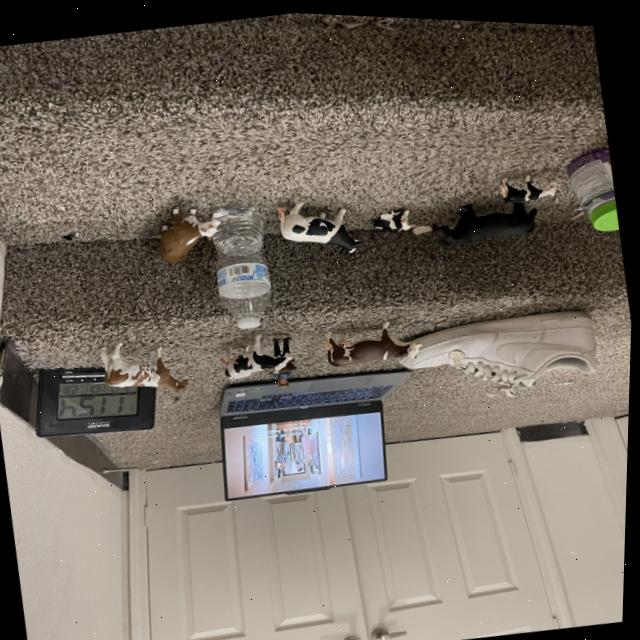cow: (430, 188, 542, 245), (151, 196, 223, 273), (324, 312, 424, 366), (99, 339, 195, 393), (276, 196, 365, 249), (220, 325, 298, 379), (499, 164, 560, 202), (372, 202, 419, 232), (273, 356, 301, 378)
person: (274, 367, 298, 387)
